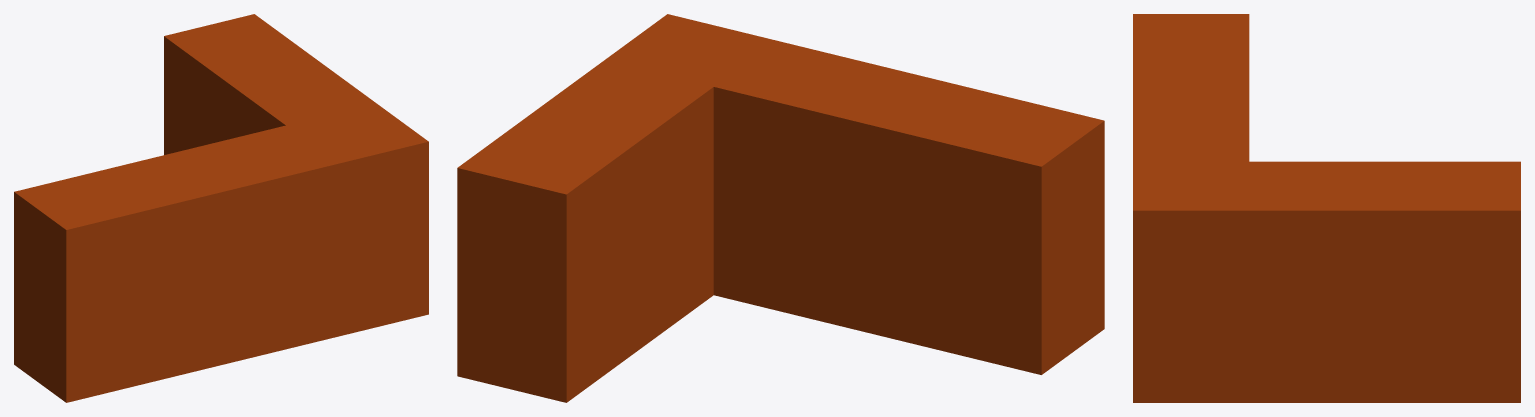
The model's file is RoofLedgeCorner.FBX.
3 views of the same model, side by side, from view 1: azimuth 30°, elevation 25°; view 2: azimuth 150°, elevation 25°; view 3: azimuth 270°, elevation 25° (orthographic). The views are drawn at different scales.
Parts seen in each view (by area): view 1: RoofLedgeCorner; view 2: RoofLedgeCorner; view 3: RoofLedgeCorner.
Part boxes in pixels (x1,y1,x2,y2): RoofLedgeCorner: [14, 14, 428, 402]; RoofLedgeCorner: [457, 14, 1104, 402]; RoofLedgeCorner: [1133, 14, 1520, 402].
Size of the model in its own units: 0.6 by 0.2734 by 0.5.
